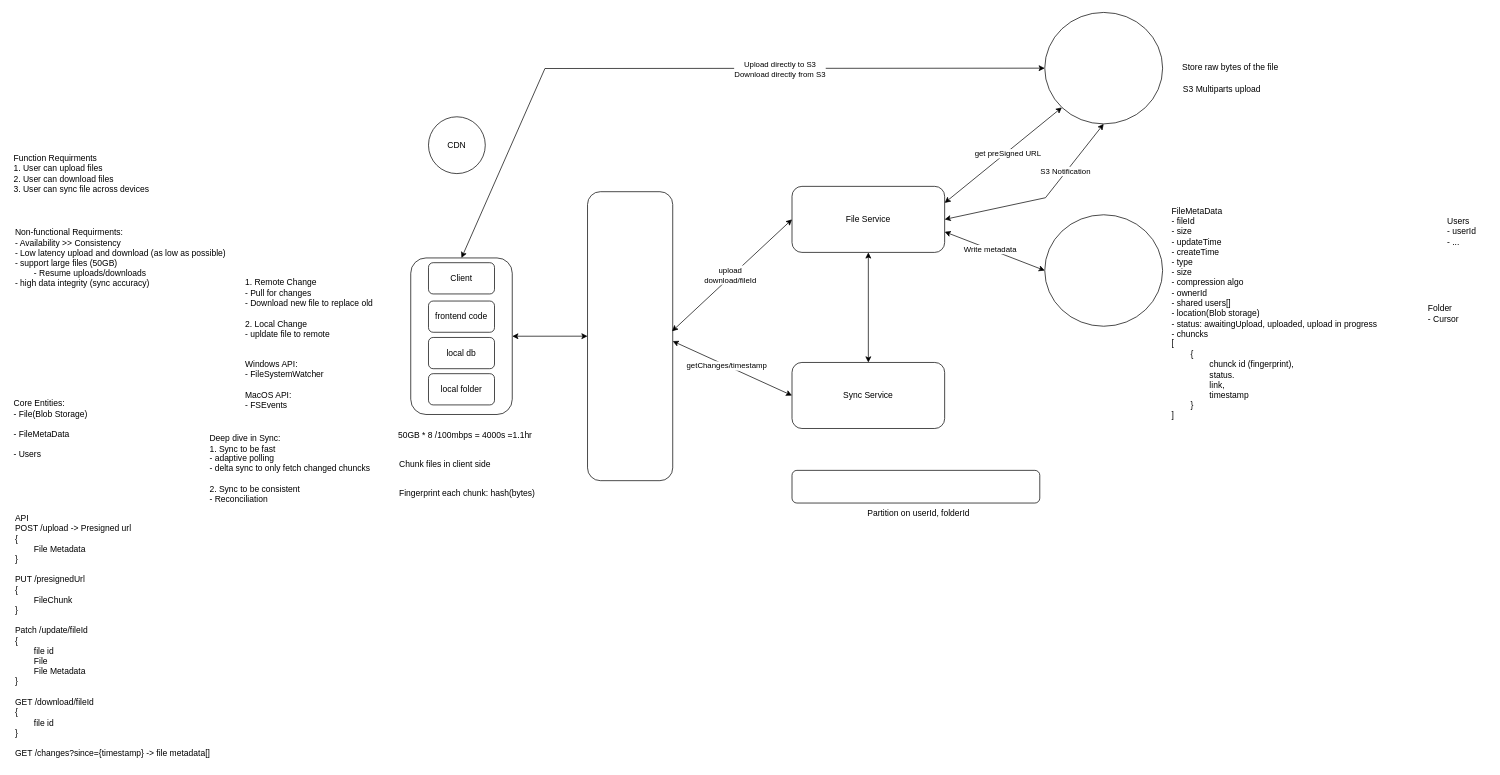
Some shapes in this 1500 by 775 pixel diagram are drawn without their labels. Each missing label, with the box of its shape:
API Gateway 1. Routing 2. Load Balance 3. Rate Limiting 4. User Authetication: (587, 191, 673, 481)
Blob Storage S3: (1044, 12, 1163, 124)
Event Bus (Overkill here): (791, 470, 1040, 503)
File Database DynamoDB: (1044, 214, 1163, 326)
